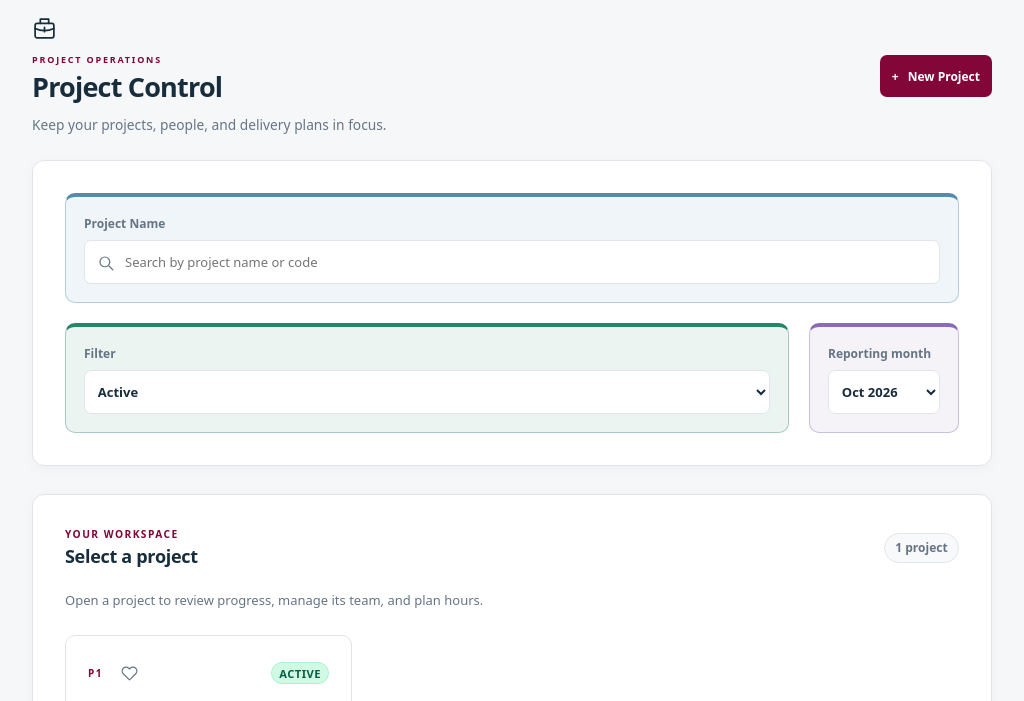
shows pending expenses separately from the approved-spend chart and warns the Project Admin
In the field labelled "Project Name": [512, 262] box [84,240,940,284], type "Atlas"
(page scrolled)
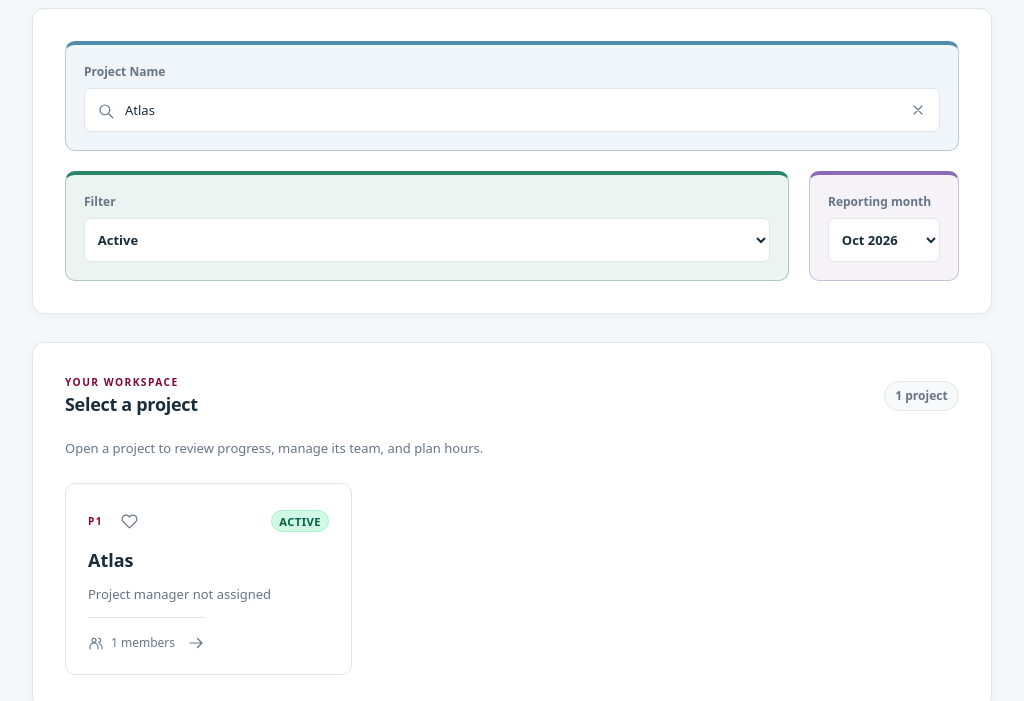
Click the button "Atlas Project manager not assigned 1 members": [209, 600] box [88,548,329,652]
(page scrolled)
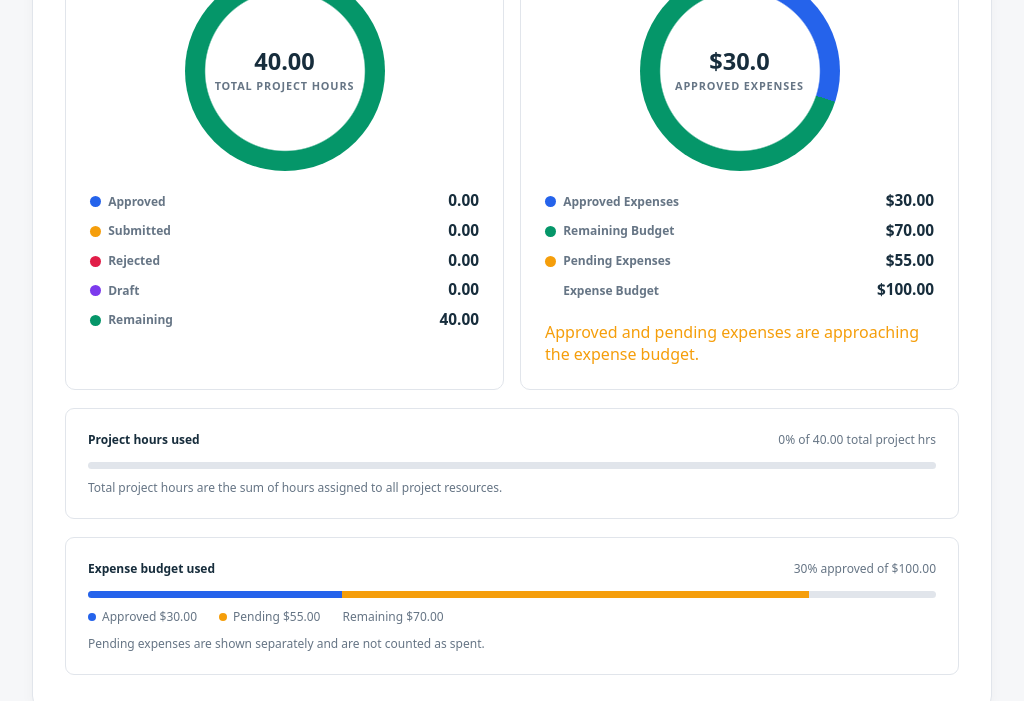
Now the text "Approved and pending expenses are approaching the expense budget." is shown, box [545,321,934,365]
Now the text "Pending $55.00" is shown, box [219,608,320,625]
